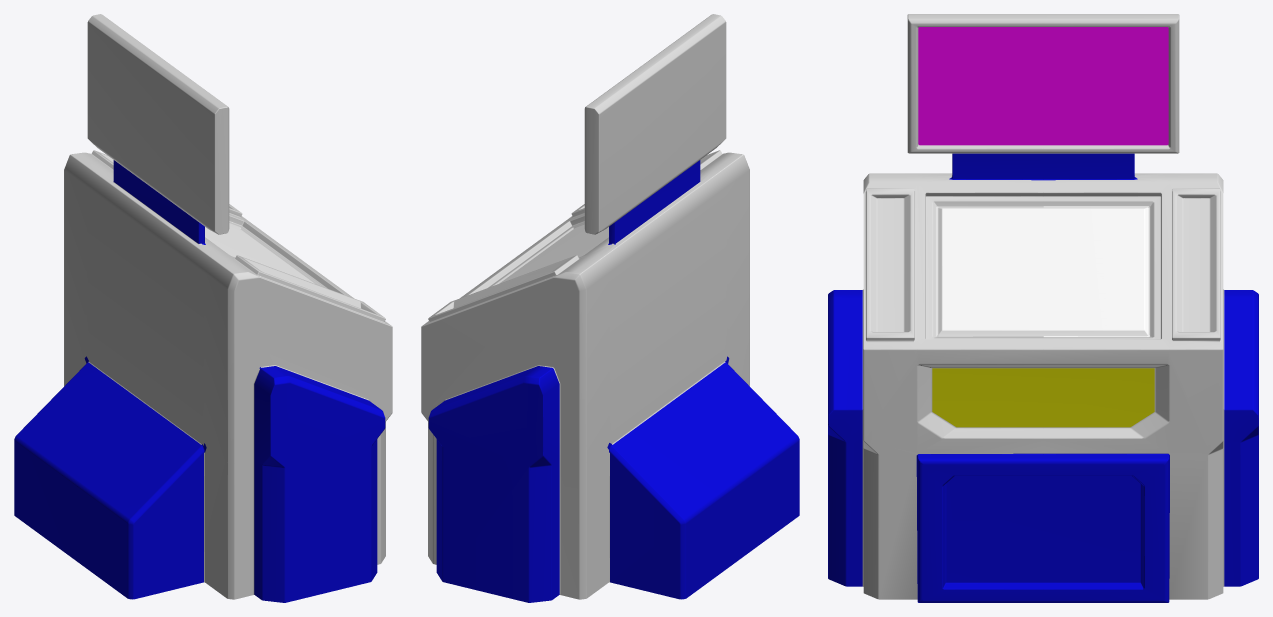
File: Console Remaster.fbx
3 views of the same model, side by side, from view 1: azimuth 30°, elevation 25°; view 2: azimuth 150°, elevation 25°; view 3: azimuth 270°, elevation 25° (orthographic). The views are drawn at different scales.
Parts seen in each view (by area): view 1: Console_base; view 2: Console_base; view 3: Console_base.
Boxes of the visible parts, x1=… form: Console_base: x1=14, y1=14, x2=392, y2=602; Console_base: x1=421, y1=14, x2=799, y2=602; Console_base: x1=828, y1=14, x2=1258, y2=602.
Bounding box in the file's own units: 108 × 76.89 × 140.
